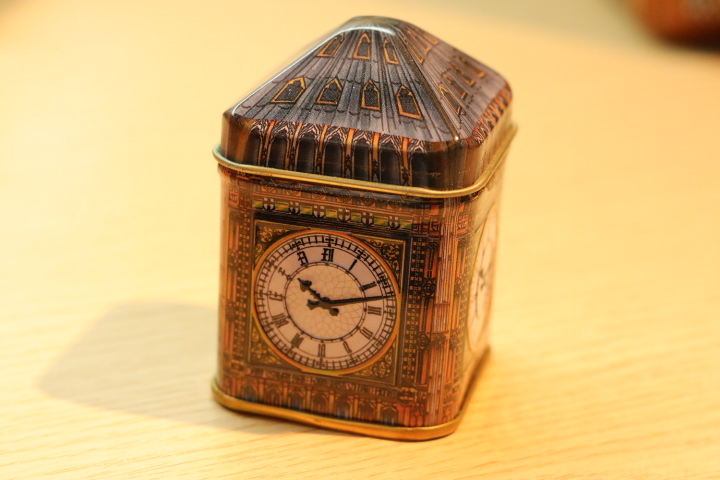Big Ben: (191, 8, 558, 469)
